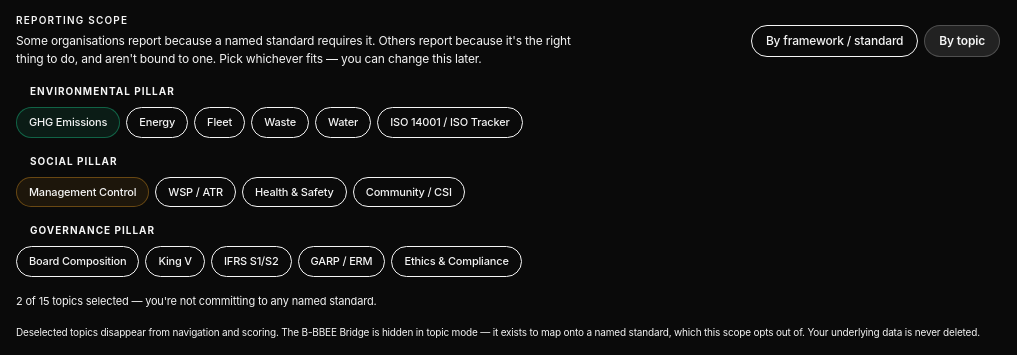
Test case: report scope panel (Part 4) › clicking a chip persists the toggle through the assumptions section
Step 1. Click the button with test id "esg-scope-topic-e-water" → (343, 122), box [315, 107, 371, 138]
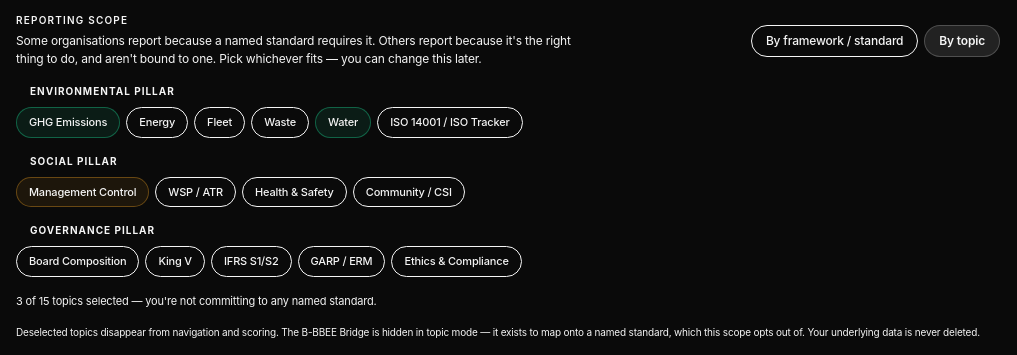
Expected: the text with test id "esg-scope-counter" shows "3 of 15 topics selected", [16, 294, 377, 308]
